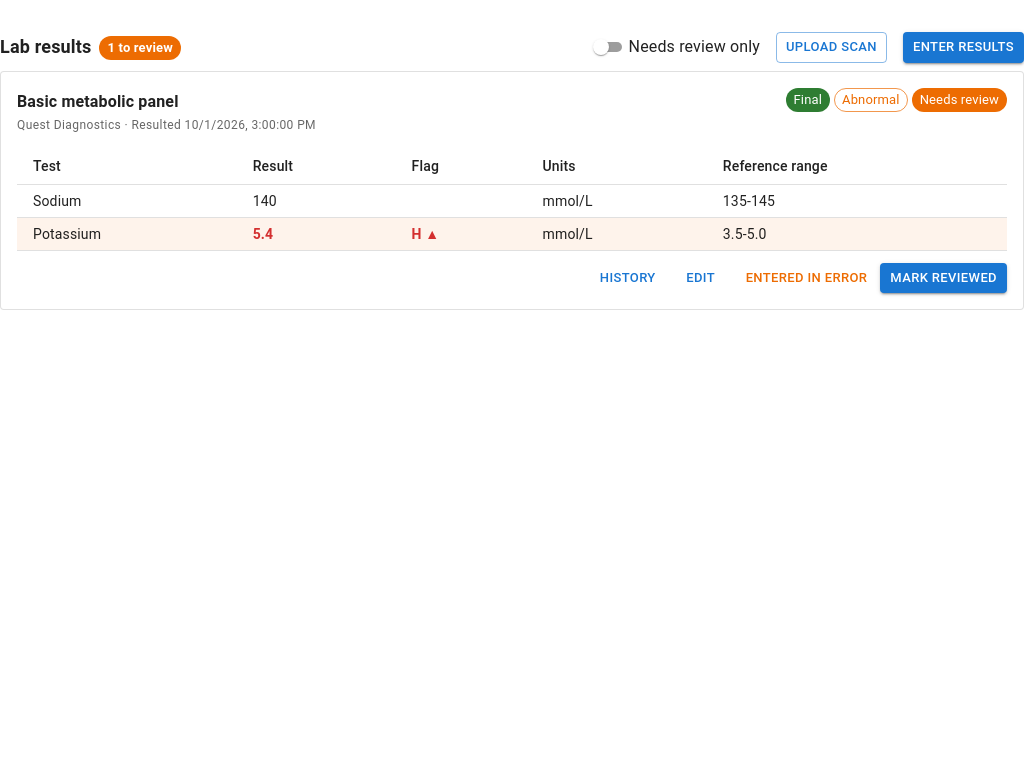
history lists what happened and who did it
The width and height of the screenshot is (1024, 768).
Click the button "History". click: (628, 278)
box: x1=595 y1=263 x2=661 y2=294
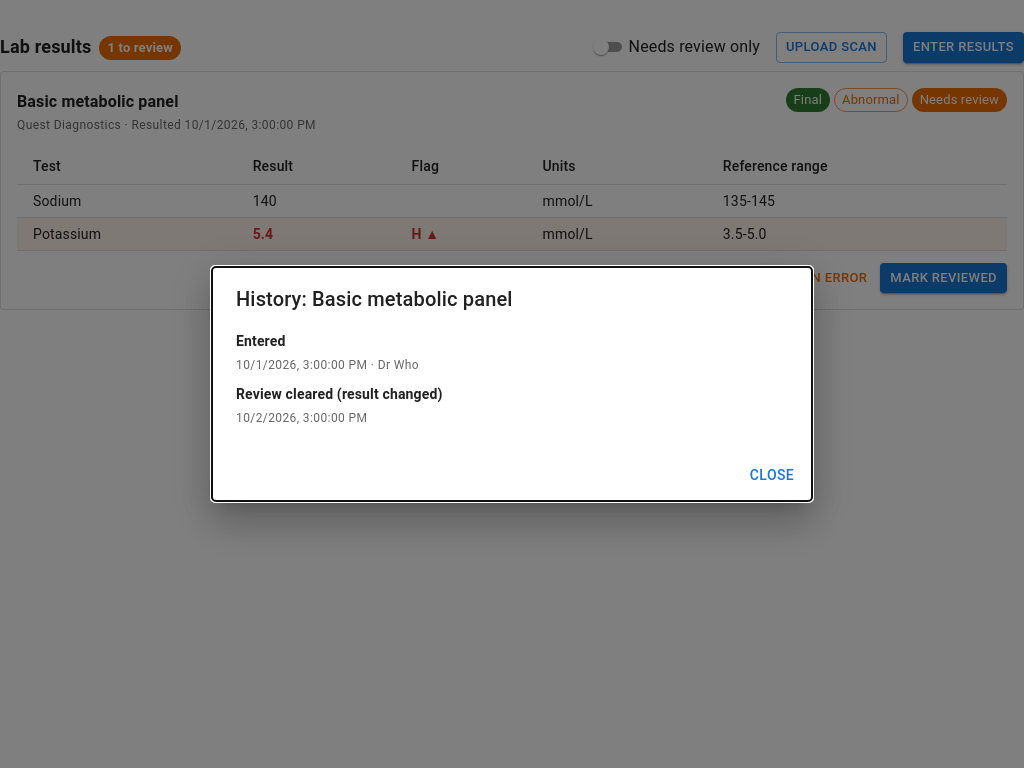
Expected: the text "Entered" is shown, x1=236 y1=333 x2=286 y2=349
Expected: the text "10/1/2026, 3:00:00 PM · Dr Who" is shown, x1=236 y1=358 x2=419 y2=372
Expected: the text "Review cleared (result changed)" is shown, x1=236 y1=386 x2=443 y2=402
